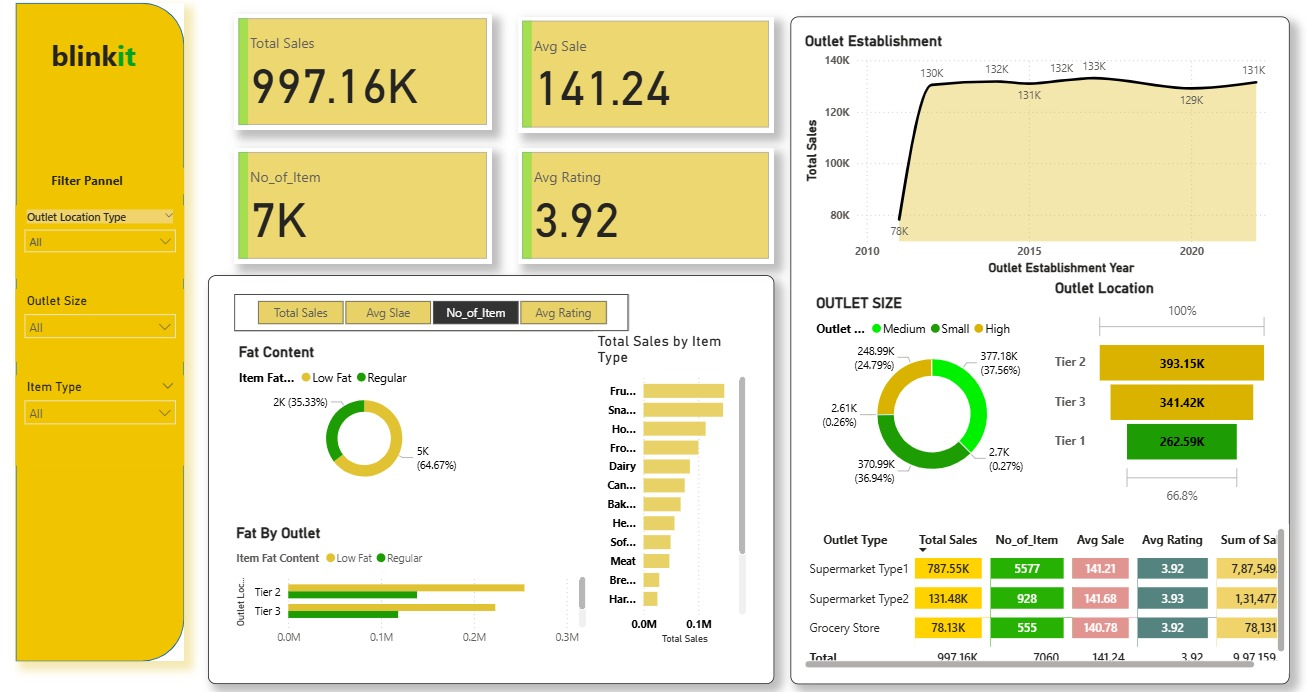

This screenshot's page, from the dashboard's own definition file:
{"tool":"powerbi","page":{"name":"Page 1","canvas":[1500,800],"ordinal":0},"visuals":[{"type":"shape","box":[20,4.3,192.9,752.9],"z":0},{"type":"textbox","box":[55.7,37.1,135.7,62.9],"z":1000},{"type":"cardVisual","fields":{"Data":["BlinkIT Grocery Data.Total Sales"]},"box":[270,17.1,294.3,132.9],"z":2000},{"type":"cardVisual","fields":{"Data":["BlinkIT Grocery Data.Avg Slae"]},"box":[594.3,20,292.9,132.9],"z":3000},{"type":"cardVisual","fields":{"Data":["BlinkIT Grocery Data.No_of_Item"]},"box":[270,170,294.3,132.9],"z":4000},{"type":"cardVisual","fields":{"Data":["BlinkIT Grocery Data.Avg Rating"]},"box":[594.3,170,292.9,132.9],"z":5000},{"type":"shape","box":[240,315,647.5,467.5],"z":6000},{"type":"slicer","fields":{"Values":["Metrics.Metrics"]},"box":[270,337.5,450,42.5],"z":7000},{"type":"donutChart","title":"Fat Content","fields":{"Y":["BlinkIT Grocery Data.No_of_Item"],"Category":["BlinkIT Grocery Data.Item Fat Content"]},"box":[270,392.5,297.5,170],"z":8000},{"type":"clusteredBarChart","title":"Fat By Outlet","fields":{"Y":["BlinkIT Grocery Data.Total Sales"],"Category":["BlinkIT Grocery Data.Outlet Location Type"],"Series":["BlinkIT Grocery Data.Item Fat Content"]},"box":[267.5,600,410,147.5],"z":9000},{"type":"clusteredBarChart","fields":{"Y":["BlinkIT Grocery Data.Total Sales"],"Category":["BlinkIT Grocery Data.Item Type"]},"box":[680,380,180,362.5],"z":10000},{"type":"shape","box":[905.7,20,570,762.9],"z":11000},{"type":"lineChart","title":"Outlet Establishment","fields":{"Category":["BlinkIT Grocery Data.Outlet Establishment Year"],"Y":["BlinkIT Grocery Data.Total Sales"]},"box":[917.1,37.1,540,282.9],"z":12000},{"type":"donutChart","title":"OUTLET SIZE","fields":{"Y":["BlinkIT Grocery Data.Total Sales","CountNonNull(BlinkIT Grocery Data.Outlet Size)"],"Category":["BlinkIT Grocery Data.Outlet Size"]},"box":[930,337.1,275.7,225.7],"z":13000},{"type":"funnel","title":" Outlet Location ","fields":{"Category":["BlinkIT Grocery Data.Outlet Location Type"],"Y":["Sum(BlinkIT Grocery Data.Sales)"]},"box":[1202.9,320,254.3,262.9],"z":14000},{"type":"pivotTable","fields":{"Rows":["BlinkIT Grocery Data.Outlet Type"],"Values":["BlinkIT Grocery Data.Total Sales","BlinkIT Grocery Data.No_of_Item","BlinkIT Grocery Data.Avg Slae","BlinkIT Grocery Data.Avg Rating","Sum(BlinkIT Grocery Data.Sales)"]},"box":[917.1,600,558.6,170],"z":15000},{"type":"slicer","fields":{"Values":["BlinkIT Grocery Data.Outlet Location Type"]},"box":[20,235.7,192.9,84.3],"z":16000},{"type":"slicer","fields":{"Values":["BlinkIT Grocery Data.Outlet Size"]},"box":[20,331.4,192.9,82.9],"z":17000},{"type":"textbox","box":[55.7,192.9,157.1,30],"z":18000},{"type":"slicer","fields":{"Values":["BlinkIT Grocery Data.Item Type"]},"box":[20,430,192.9,102.9],"z":19000}]}

Visuals, with their boxes in screenshot pixels (x1, y1, x2, y2), scaled from the page's 1500x800 canvas onto the 1307x692 screenshot:
shape: bbox=(17, 4, 186, 655)
textbox: bbox=(49, 32, 167, 86)
cardVisual - BlinkIT Grocery Data.Total Sales: bbox=(235, 15, 492, 130)
cardVisual - BlinkIT Grocery Data.Avg Slae: bbox=(518, 17, 773, 132)
cardVisual - BlinkIT Grocery Data.No_of_Item: bbox=(235, 147, 492, 262)
cardVisual - BlinkIT Grocery Data.Avg Rating: bbox=(518, 147, 773, 262)
shape: bbox=(209, 272, 773, 677)
slicer - Metrics.Metrics: bbox=(235, 292, 627, 329)
"Fat Content" donutChart: bbox=(235, 340, 494, 487)
"Fat By Outlet" clusteredBarChart: bbox=(233, 519, 590, 647)
clusteredBarChart - BlinkIT Grocery Data.Total Sales x BlinkIT Grocery Data.Item Type: bbox=(593, 329, 749, 642)
shape: bbox=(789, 17, 1286, 677)
"Outlet Establishment" lineChart: bbox=(799, 32, 1270, 277)
"OUTLET SIZE" donutChart: bbox=(810, 292, 1051, 487)
" Outlet Location " funnel: bbox=(1048, 277, 1270, 504)
pivotTable - BlinkIT Grocery Data.Outlet Type x BlinkIT Grocery Data.Total Sales: bbox=(799, 519, 1286, 666)
slicer - BlinkIT Grocery Data.Outlet Location Type: bbox=(17, 204, 186, 277)
slicer - BlinkIT Grocery Data.Outlet Size: bbox=(17, 287, 186, 358)
textbox: bbox=(49, 167, 185, 193)
slicer - BlinkIT Grocery Data.Item Type: bbox=(17, 372, 186, 461)
